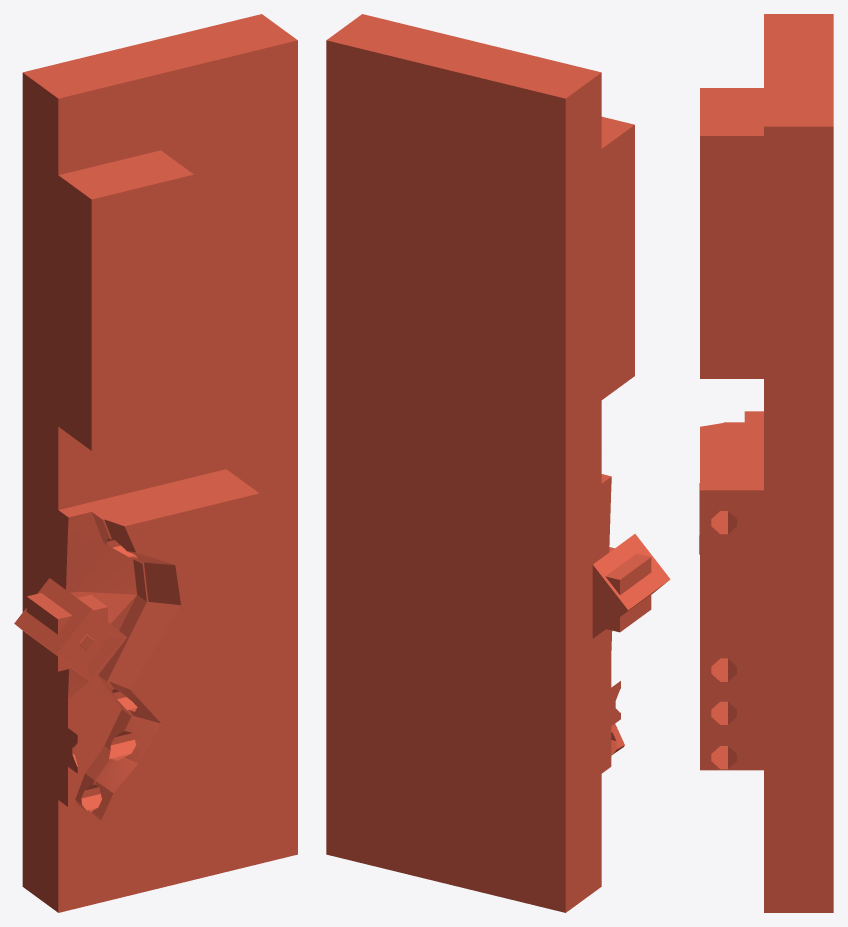
Rendered from Door_wingBackRight.fbx.
3 views of the same model, side by side, from view 1: azimuth 30°, elevation 25°; view 2: azimuth 150°, elevation 25°; view 3: azimuth 270°, elevation 25° (orthographic). The views are drawn at different scales.
Parts seen in each view (by area): view 1: Door_wingBackRight; view 2: Door_wingBackRight; view 3: Door_wingBackRight.
Boxes of the visible parts, x1,y1,x2,y2 form: Door_wingBackRight: (14,14,297,912); Door_wingBackRight: (326,14,670,912); Door_wingBackRight: (699,14,833,912).
Size of the model in its own units: 2.3 by 6.5 by 1.
